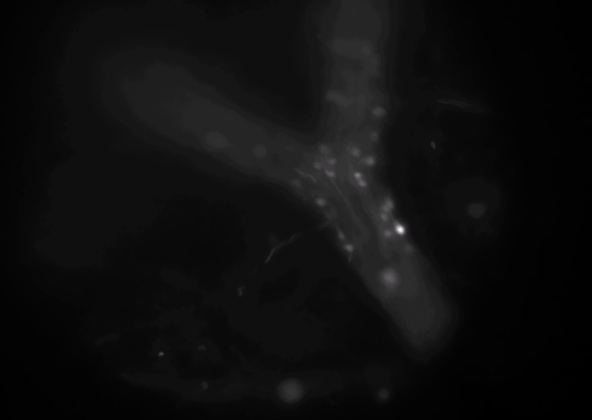cell: (394, 223, 408, 237), (371, 104, 385, 118), (349, 147, 363, 161), (363, 156, 377, 170), (317, 142, 331, 156), (310, 159, 324, 173), (325, 155, 339, 169), (327, 89, 341, 103), (350, 169, 364, 183), (335, 94, 349, 108), (356, 178, 370, 192), (341, 244, 355, 258), (382, 271, 396, 285), (380, 225, 394, 239), (382, 196, 396, 210), (375, 208, 389, 222), (376, 202, 390, 216), (314, 195, 328, 209), (288, 180, 302, 194), (253, 144, 267, 158), (210, 136, 224, 150), (358, 43, 372, 57), (367, 53, 381, 67), (333, 38, 347, 52), (324, 167, 338, 181), (368, 130, 382, 144)
